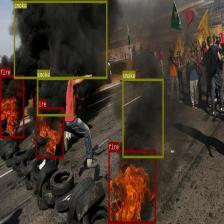fire: (108, 149, 156, 223), (0, 75, 24, 138), (36, 106, 64, 158)
smoke: (13, 0, 107, 78), (122, 78, 164, 158), (37, 78, 72, 116)
